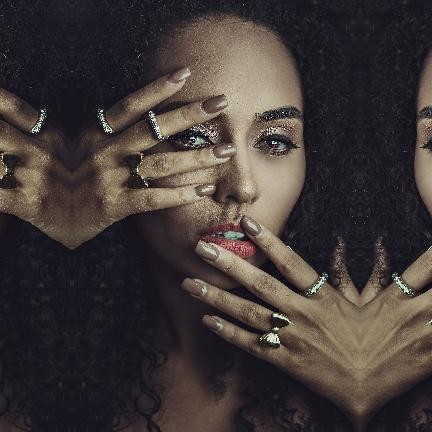Nail: (194, 240, 222, 262), (239, 215, 262, 238), (201, 95, 227, 114), (181, 278, 206, 296), (211, 143, 237, 159), (166, 66, 190, 83), (202, 315, 223, 332), (194, 183, 215, 197)
